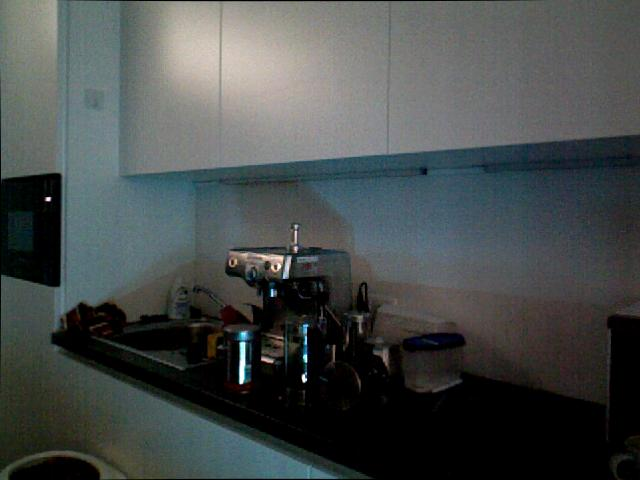apple: (0, 174, 64, 290)
bench: (165, 268, 192, 320)
couch: (98, 316, 225, 371)
handbag: (280, 314, 327, 408)
knife: (606, 295, 640, 464)
